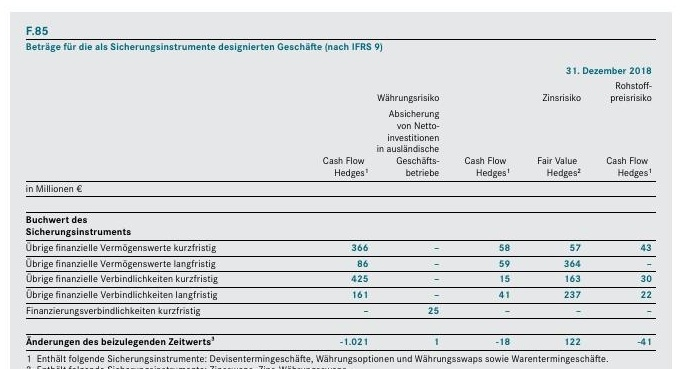table: (0, 0, 686, 369)
